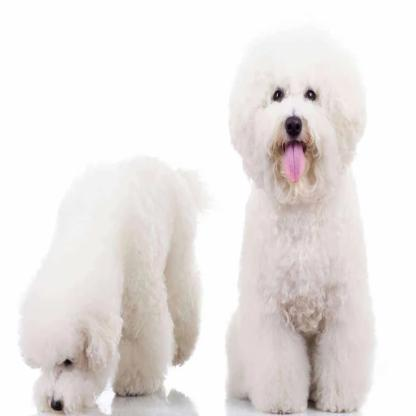Bichon Frise: (224, 13, 379, 409), (23, 152, 210, 412)
